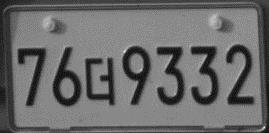2: (223, 42, 255, 106)
3: (154, 45, 185, 106), (189, 45, 219, 105)
6: (50, 45, 82, 107)
7: (15, 46, 48, 106)
9: (122, 45, 151, 107)
더: (83, 56, 116, 107)
